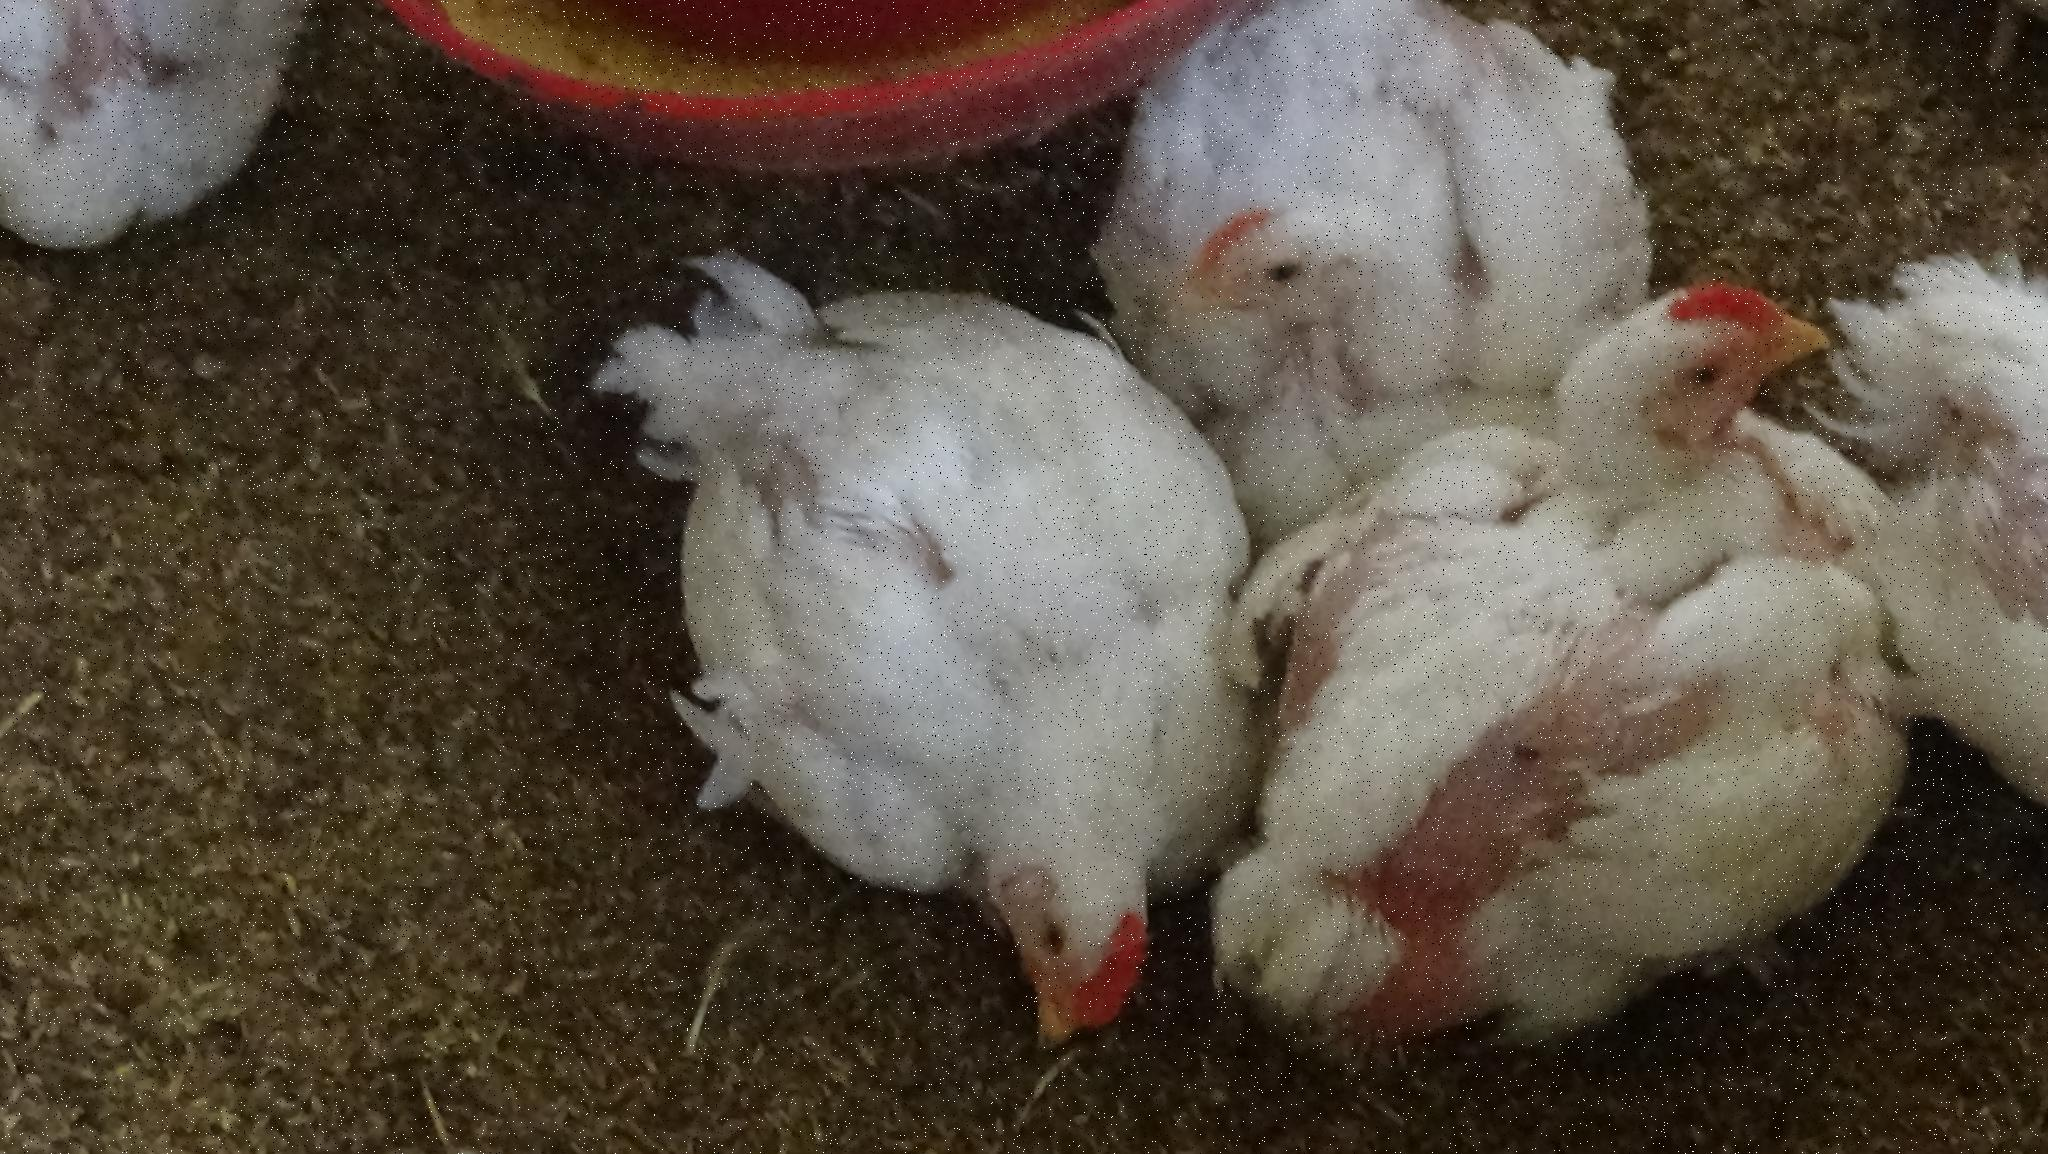Pollos: (1227, 258, 1945, 1032), (578, 291, 1182, 1061), (1099, 1, 1629, 355), (1869, 182, 2048, 811), (1, 1, 315, 255)
